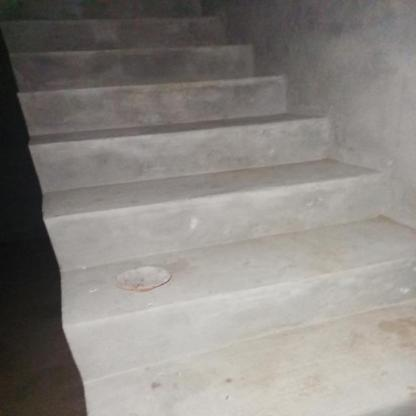stair: (3, 2, 416, 414)
